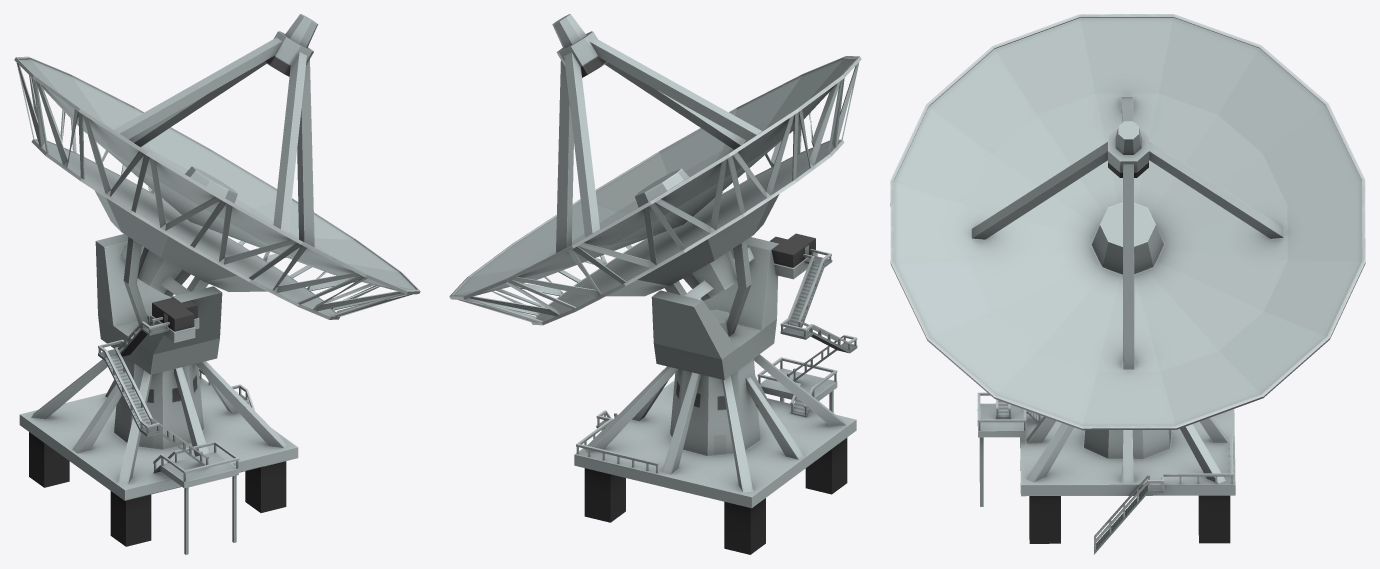
The model's file is satellitedish.gltf.
3 views of the same model, side by side, from view 1: azimuth 30°, elevation 25°; view 2: azimuth 150°, elevation 25°; view 3: azimuth 270°, elevation 25° (orthographic). The views are drawn at different scales.
Visible parts, largest first — view 1: SatelliteDish_Mesh; view 2: SatelliteDish_Mesh; view 3: SatelliteDish_Mesh.
Boxes of the visible parts, box(x1,y1,x2,y2) form: SatelliteDish_Mesh: box(14, 14, 420, 554); SatelliteDish_Mesh: box(449, 14, 861, 554); SatelliteDish_Mesh: box(890, 14, 1365, 554).
Bounding box in the file's own units: 0.7216 × 0.9355 × 0.8841.
1 material, 1 textured.
